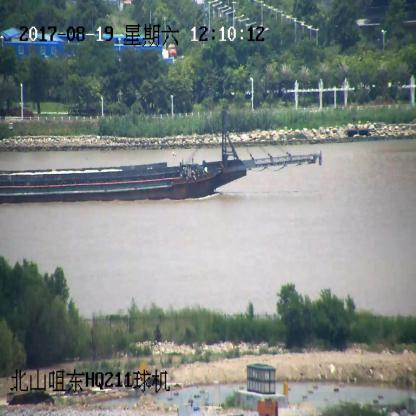Bulk Carrier: (0, 106, 322, 204)
